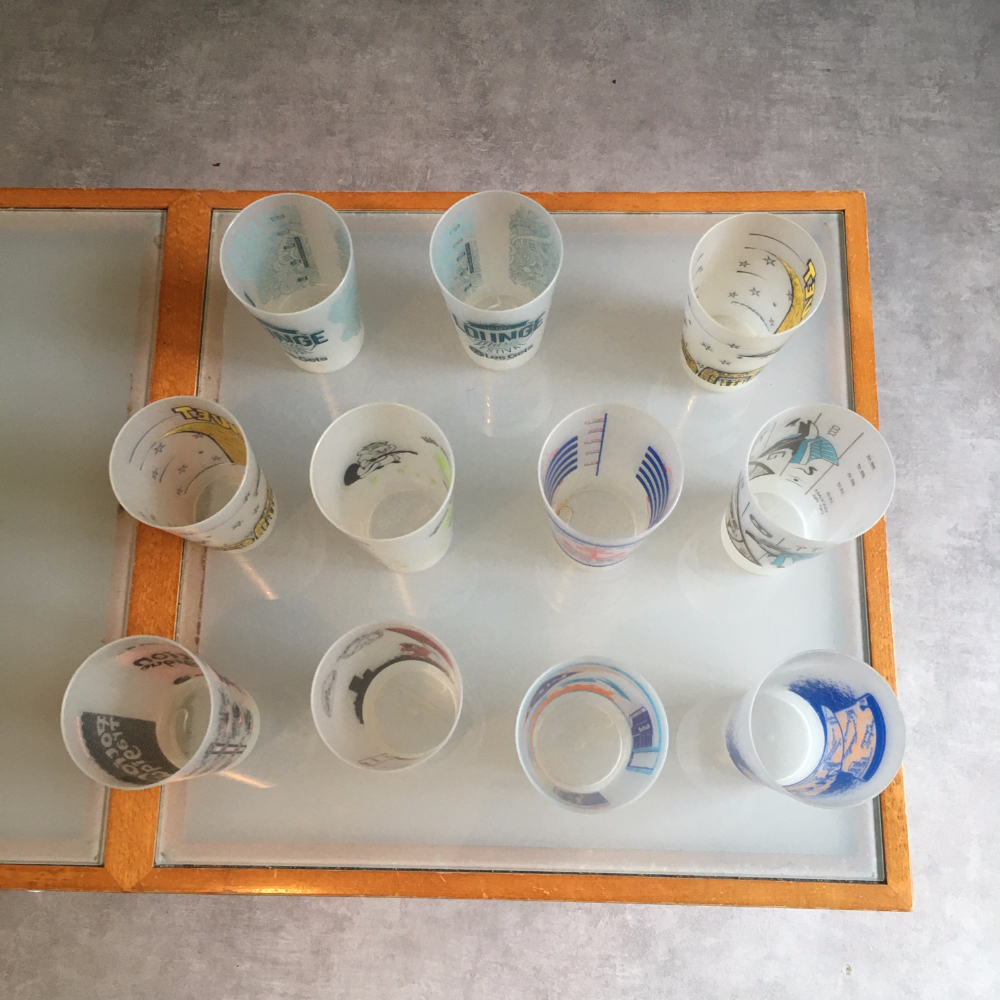ecocup: (60, 636, 259, 789), (721, 404, 895, 575), (724, 650, 905, 810), (678, 212, 827, 392), (109, 395, 276, 554), (220, 192, 363, 372), (309, 401, 455, 572), (515, 655, 669, 816), (538, 402, 684, 570), (430, 191, 564, 370), (310, 621, 463, 773)
